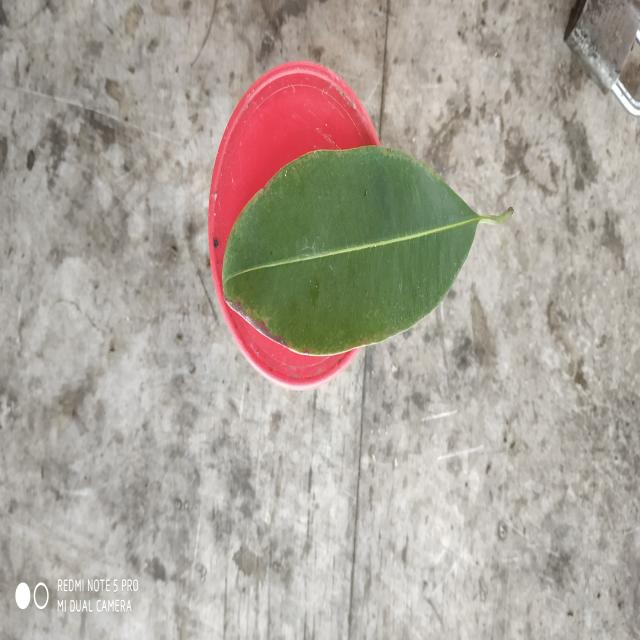fasiation: (222, 147, 512, 356)
